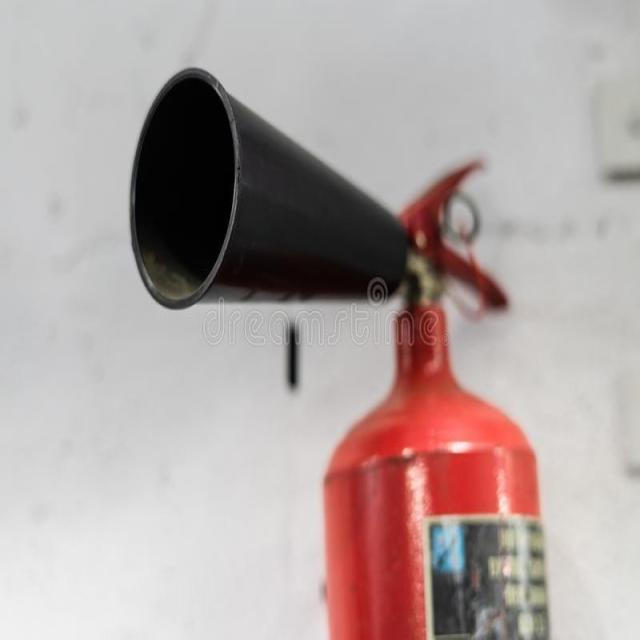fire_extinguisher: (125, 62, 558, 639)
